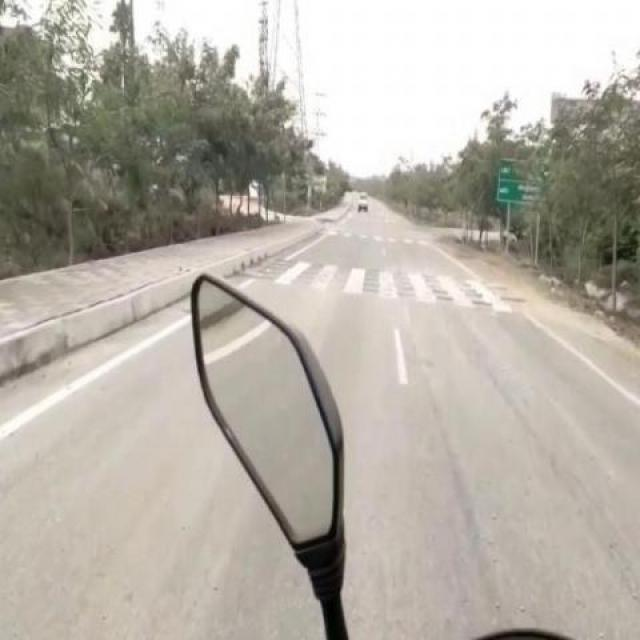Speed Bump: (274, 258, 528, 316), (276, 228, 467, 244)
